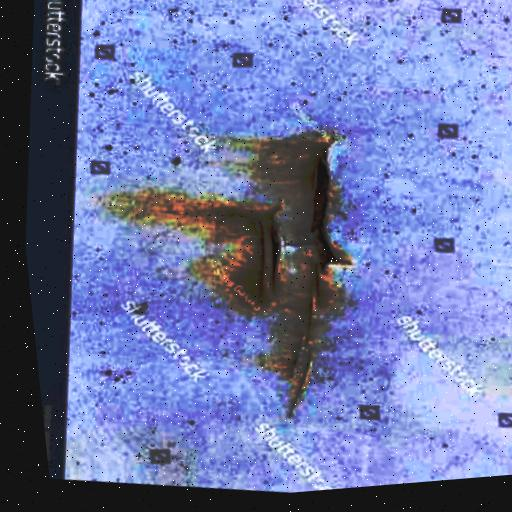corrosion: (252, 123, 373, 410), (201, 193, 294, 319)
